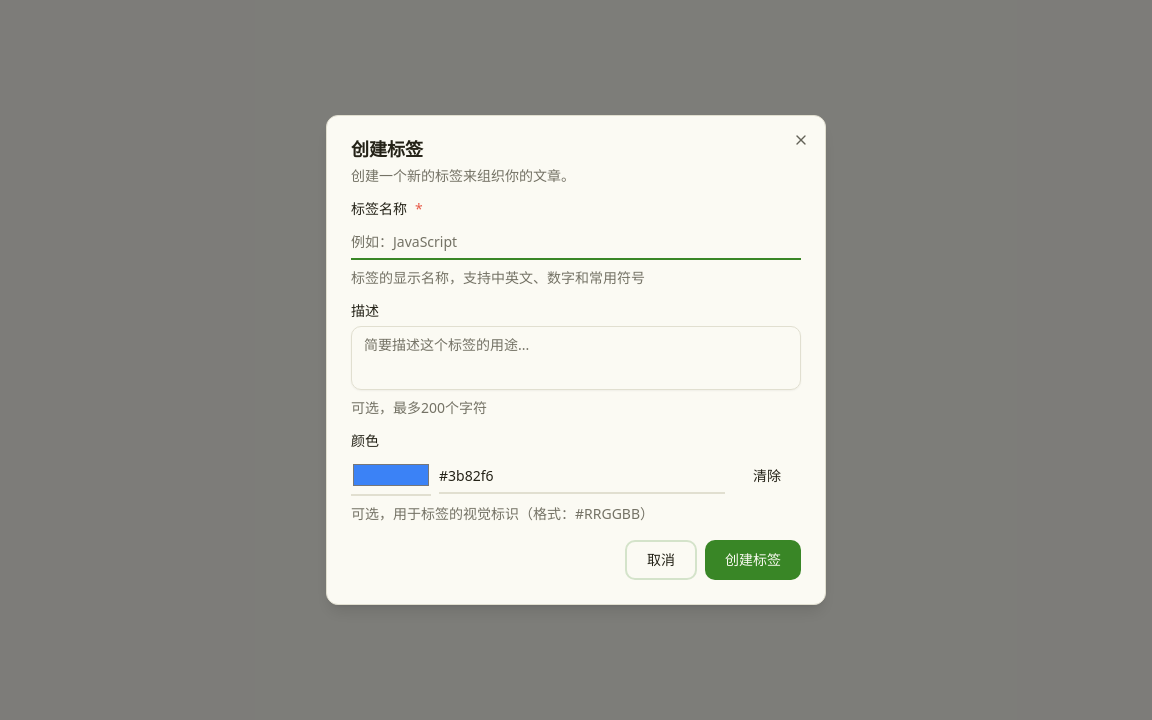
Test: TagDialog › 创建模式 › 应该处理重复名称错误
Step 1. Type "JavaScript" into the field labelled "标签名称 *" → [576, 242], box [351,224,801,260]
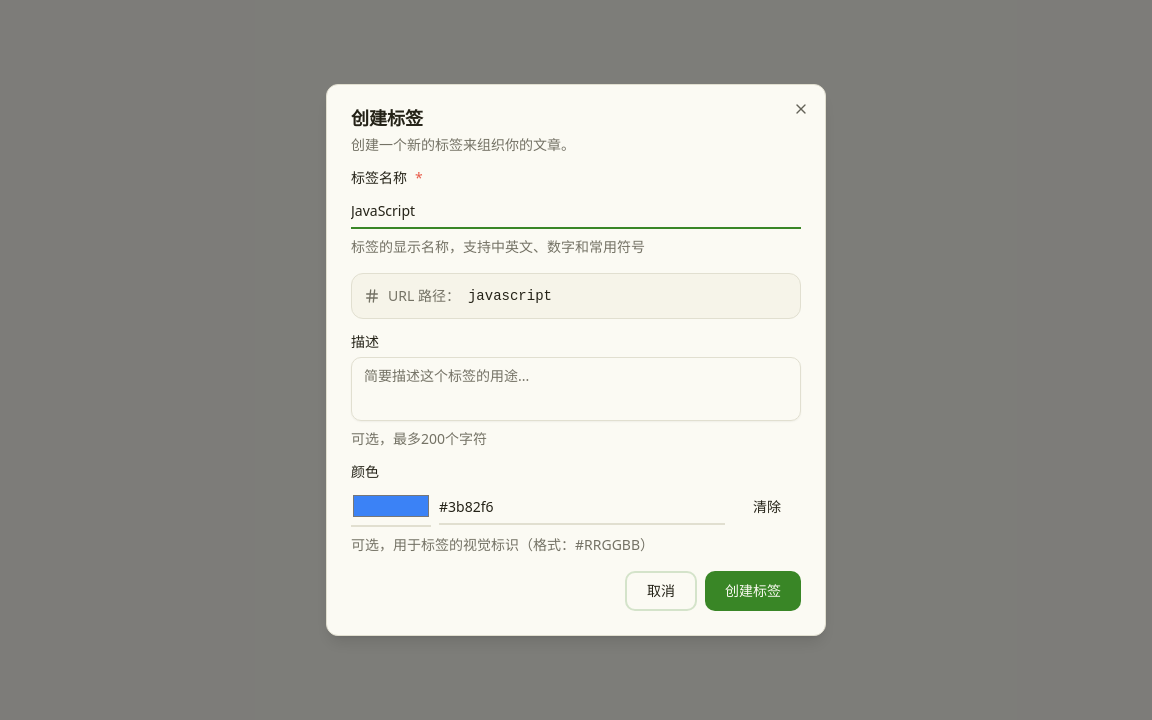
Step 2. Click the button "创建标签" → [753, 591], box [705,571,801,611]
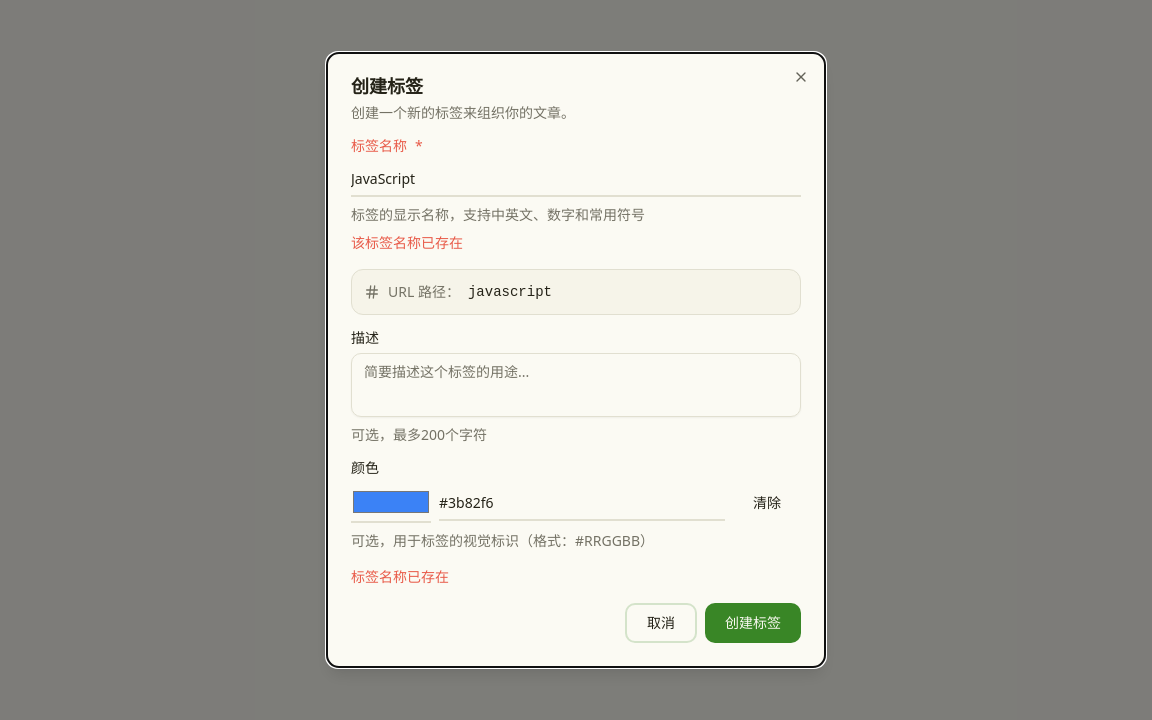
Expected: the text "该标签名称已存在" is shown, [351,233,463,252]
